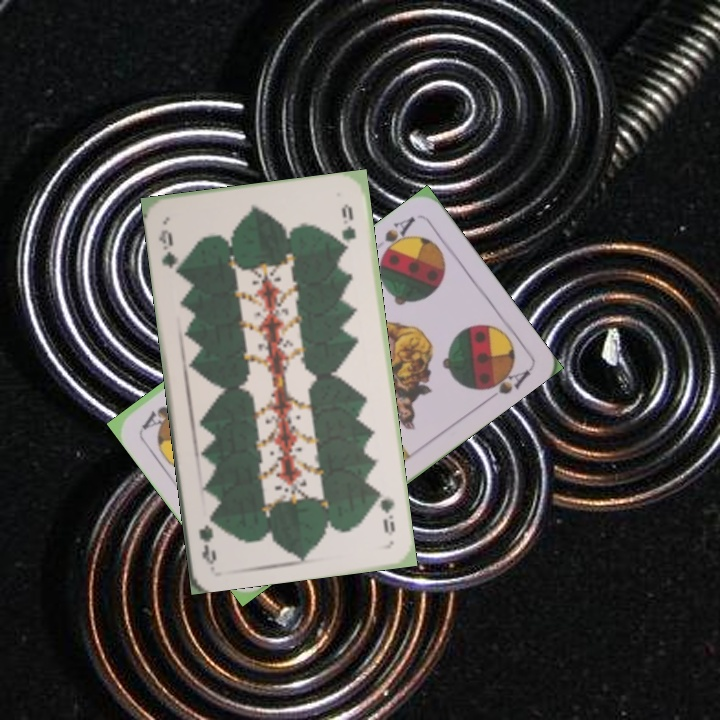G9: (154, 225, 184, 278), (372, 485, 398, 535)
SA: (376, 212, 418, 261)
